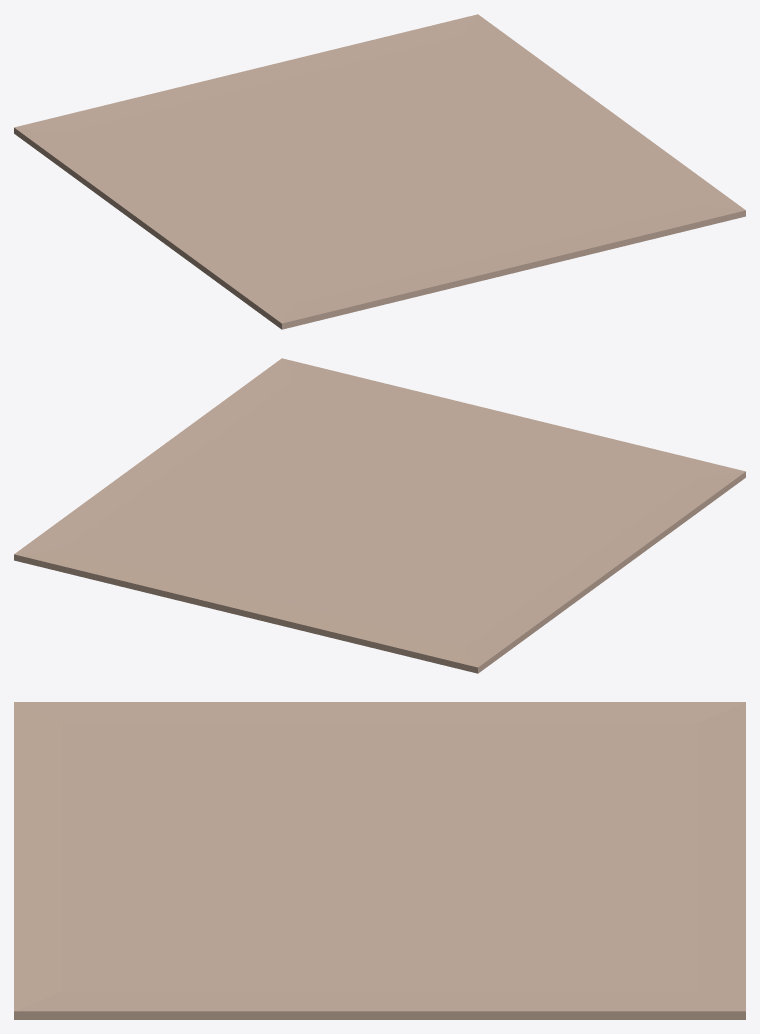
Rendered from TOWER_FLOOR0_colliders_004.fbx.
The picture shows the model from 3 angles, top to bottom: view 1: azimuth 30°, elevation 25°; view 2: azimuth 150°, elevation 25°; view 3: azimuth 270°, elevation 25°; orthographic projection. The views are drawn at different scales.
Visible parts, largest first — view 1: TOWER_FLOOR0_colliders.004; view 2: TOWER_FLOOR0_colliders.004; view 3: TOWER_FLOOR0_colliders.004.
Part boxes in pixels (box(x1,y1,x2,y2)): TOWER_FLOOR0_colliders.004: box(14, 14, 745, 329); TOWER_FLOOR0_colliders.004: box(14, 358, 745, 673); TOWER_FLOOR0_colliders.004: box(14, 702, 745, 1019).
Size of the model in its own units: 345 by 4.38 by 345.
